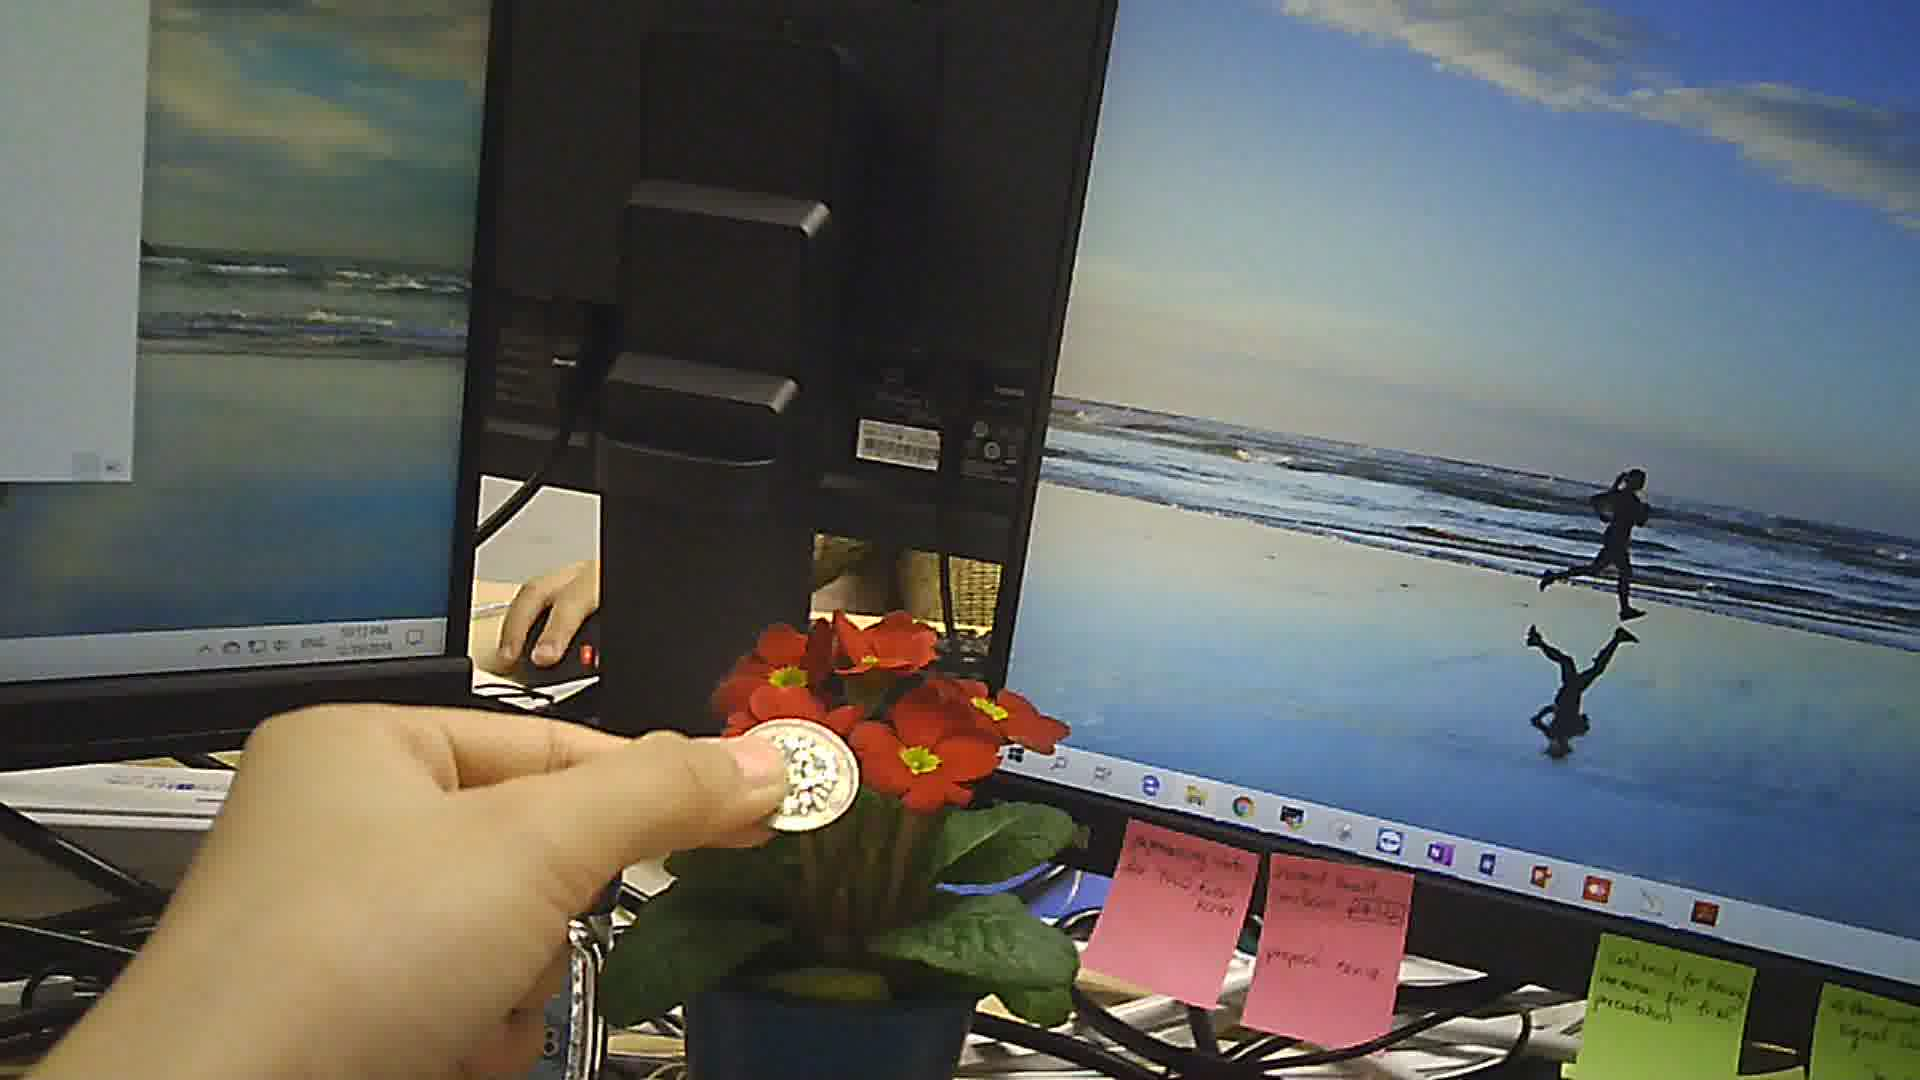100 Yen: (725, 715, 858, 837)
